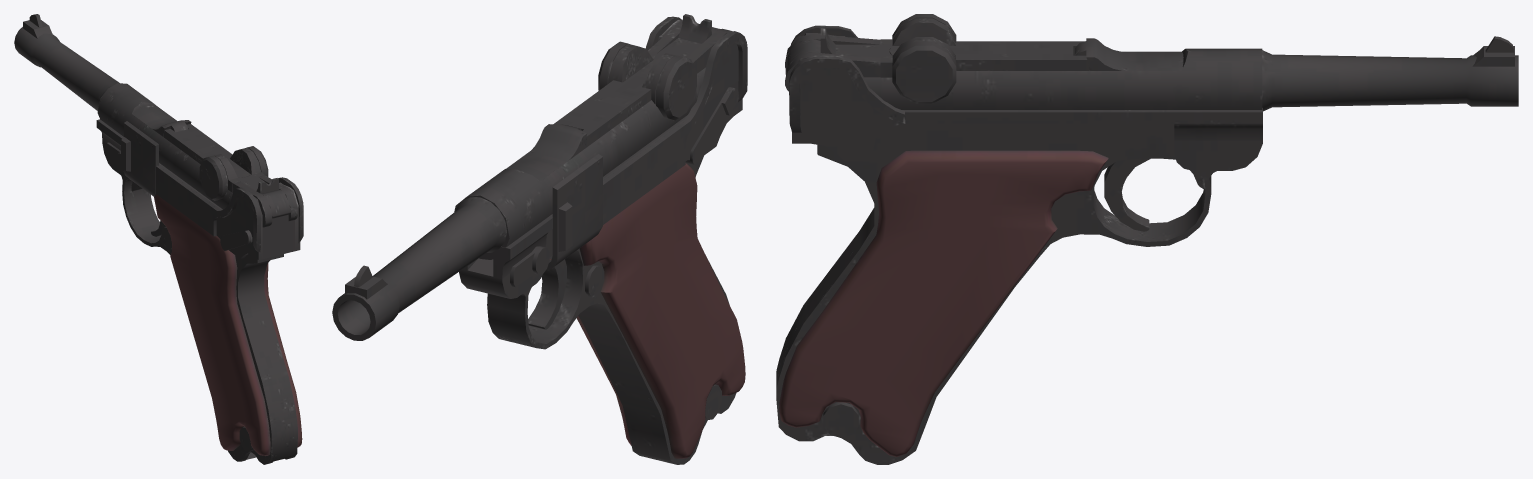
Rendered from luger.glb.
3 renders of one model, left to right at view 1: azimuth 30°, elevation 25°; view 2: azimuth 150°, elevation 25°; view 3: azimuth 270°, elevation 25°, orthographic. The views are drawn at different scales.
Visible parts, largest first — view 1: Body, Barrel, Slide, Part3, Part2, Part1; view 2: Body, Barrel, Slide, Part3, Part2, Part1, Trigger; view 3: Body, Slide, Barrel, Part3, Part2, Part1, Trigger.
Part boxes in pixels (x1=…): Body: x1=96, y1=119, x2=303, y2=464; Barrel: x1=14, y1=14, x2=119, y2=110; Slide: x1=97, y1=83, x2=232, y2=209; Part3: x1=199, y1=146, x2=290, y2=218; Part2: x1=164, y1=124, x2=250, y2=177; Part1: x1=132, y1=107, x2=191, y2=137; Body: x1=459, y1=16, x2=747, y2=464; Barrel: x1=332, y1=197, x2=506, y2=340; Slide: x1=454, y1=67, x2=705, y2=259; Part3: x1=598, y1=14, x2=720, y2=120; Part2: x1=553, y1=59, x2=656, y2=147; Part1: x1=506, y1=124, x2=586, y2=181; Trigger: x1=528, y1=259, x2=566, y2=329; Body: x1=776, y1=25, x2=1262, y2=464; Slide: x1=864, y1=48, x2=1262, y2=109; Barrel: x1=1262, y1=36, x2=1518, y2=111; Part3: x1=785, y1=14, x2=956, y2=103; Part2: x1=889, y1=41, x2=1088, y2=70; Part1: x1=1075, y1=38, x2=1183, y2=70; Trigger: x1=1104, y1=158, x2=1204, y2=231.
Size of the model in its own units: 0.0282 by 0.1503 by 0.2375.
1 material, 1 textured.
